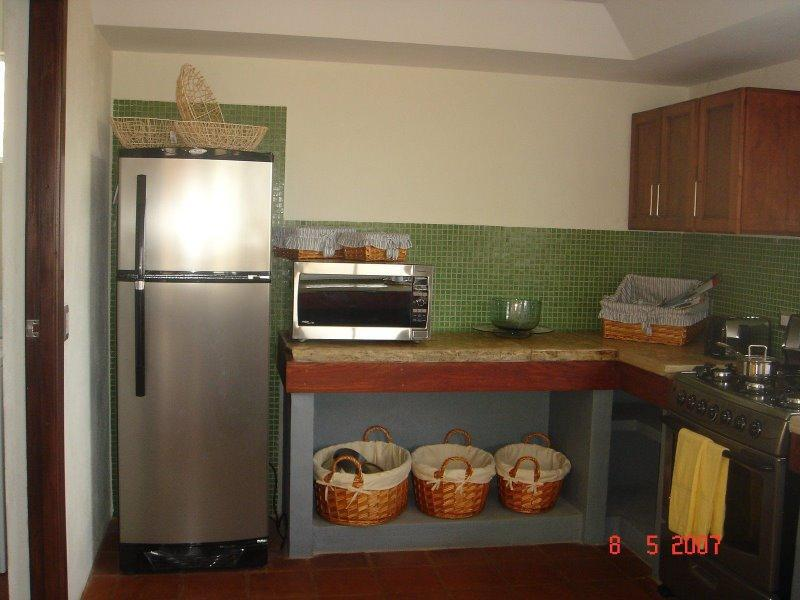Electrodomestico: (120, 150, 273, 567), (657, 409, 794, 599)
